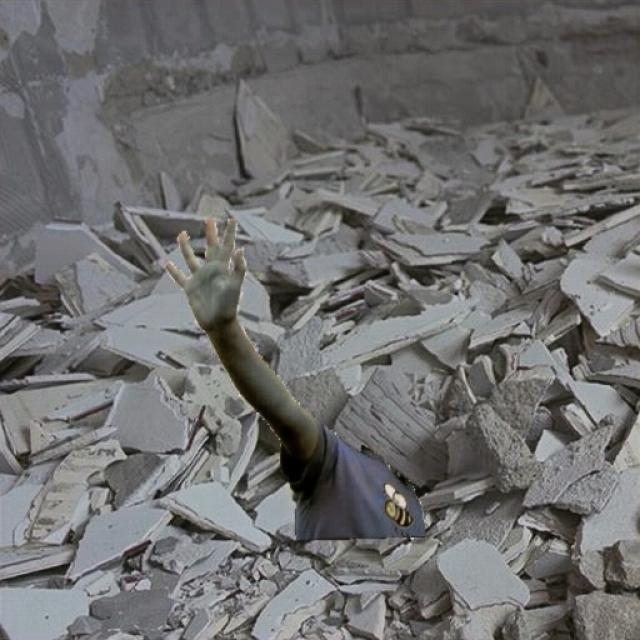Person in Rubble: (166, 217, 424, 538)
